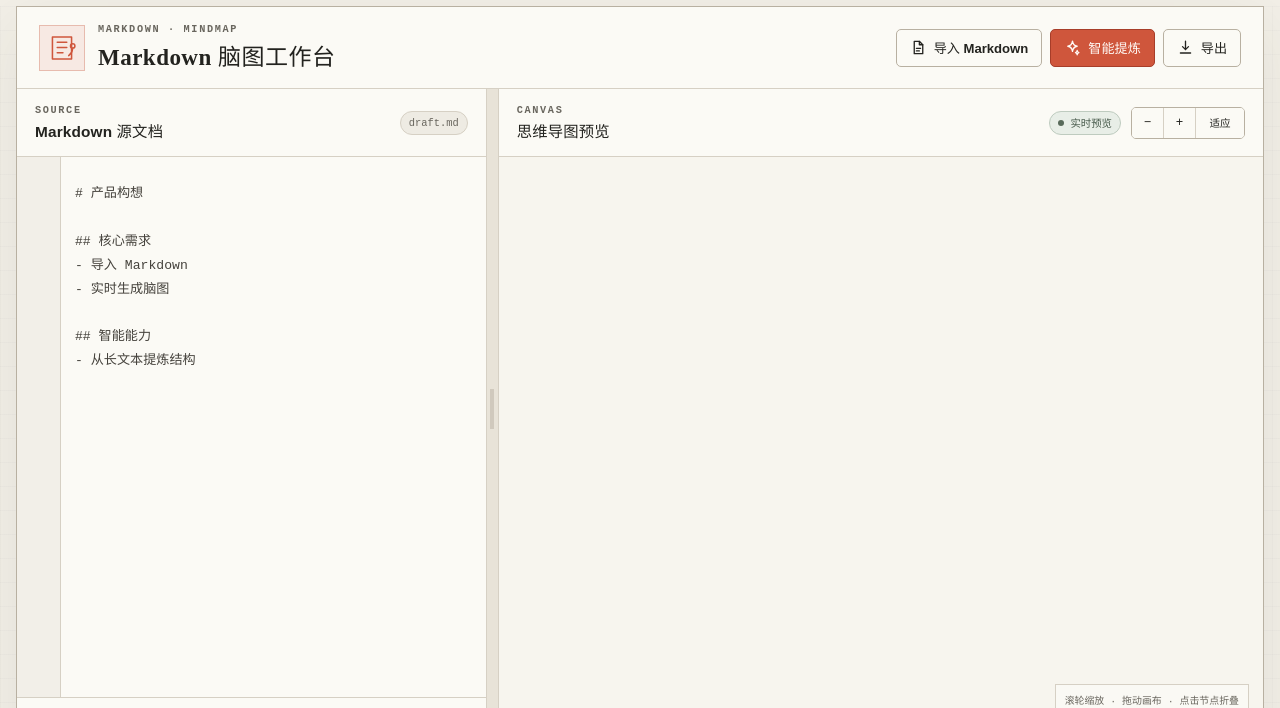
Test: 应用工作台 › 空文档显示脑图空状态
The image size is (1280, 708).
Clear the text box named "Markdown 编辑器". click: (251, 427)
box: [17, 157, 486, 697]
(page scrolled)
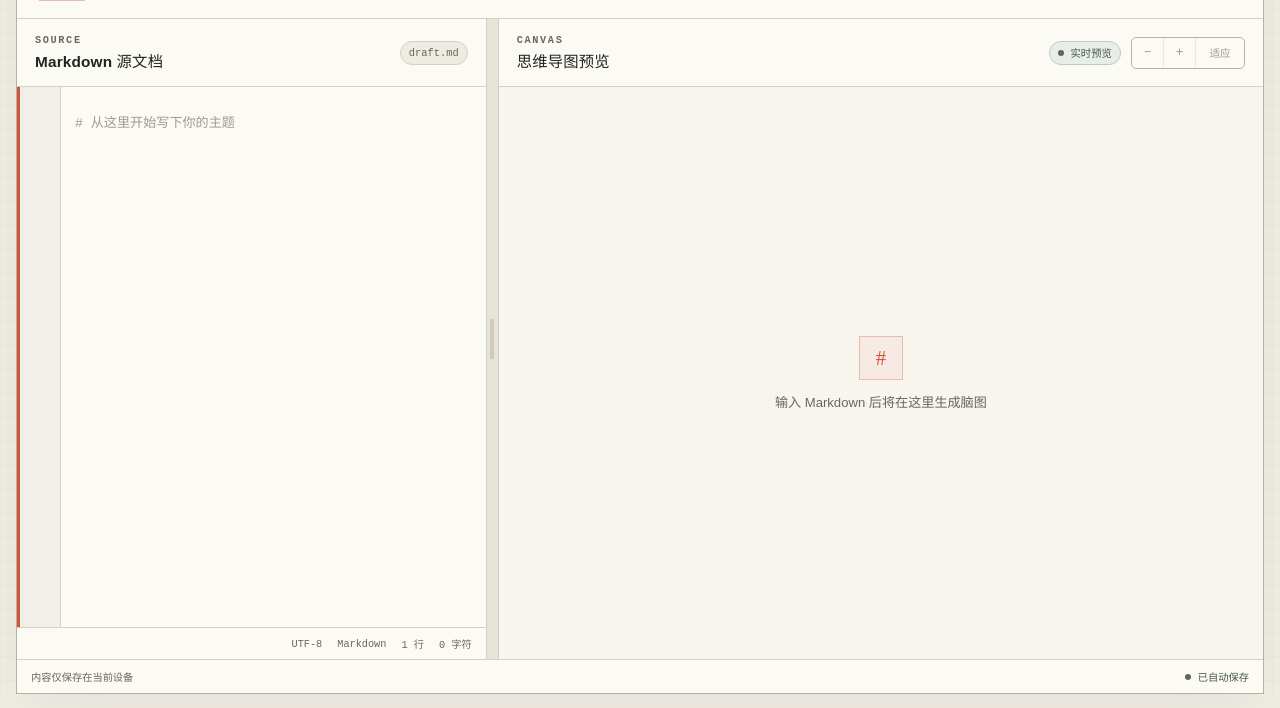
Expected: the message "# 输入 Markdown 后将在这里生成脑图" is shown, [775, 336, 987, 410]
